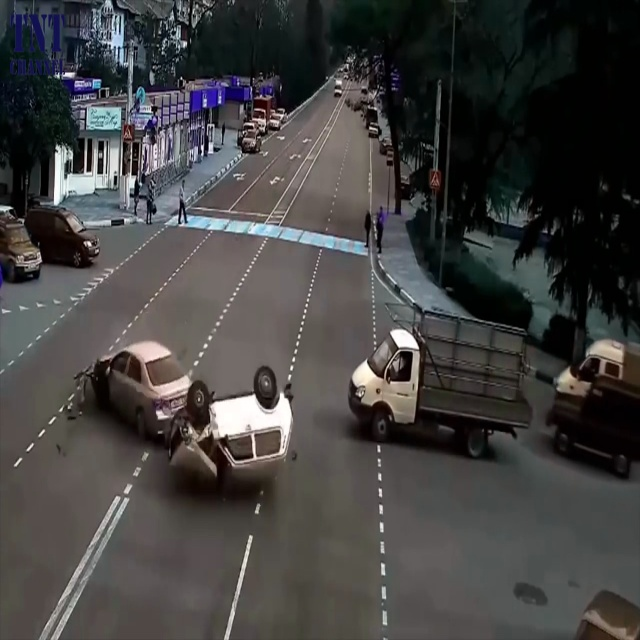acc: (69, 336, 291, 492)
